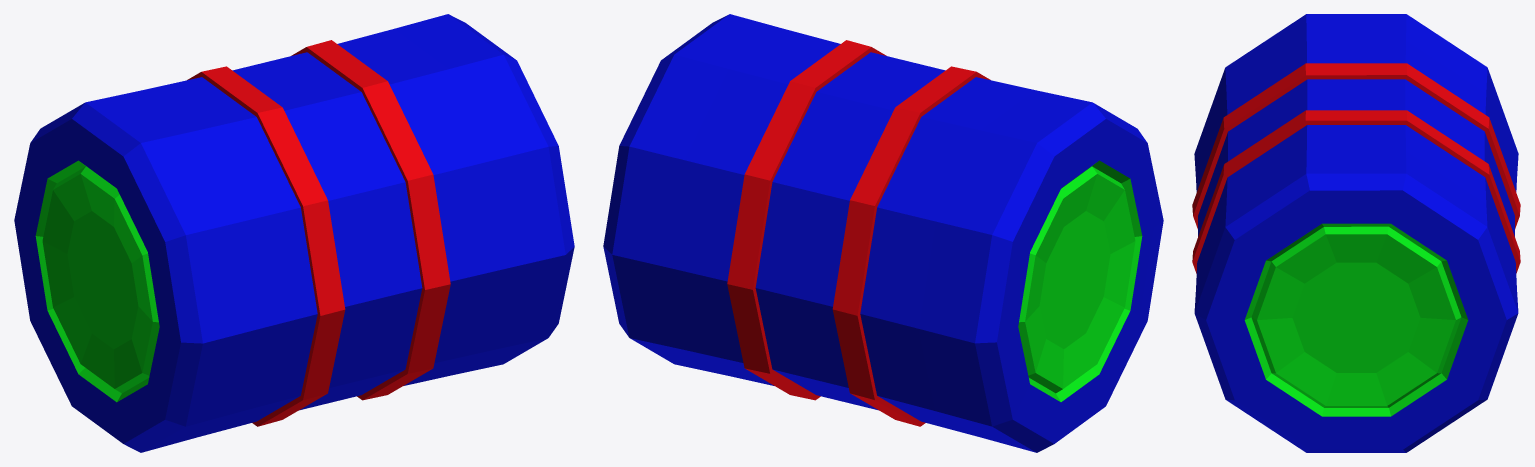
Rendered from SM_Long_HayBale.fbx.
The picture shows the model from 3 angles, left to right: view 1: azimuth 30°, elevation 25°; view 2: azimuth 150°, elevation 25°; view 3: azimuth 270°, elevation 25°; orthographic projection. The views are drawn at different scales.
Parts seen in each view (by area): view 1: SM_Long_HayBale; view 2: SM_Long_HayBale; view 3: SM_Long_HayBale.
Part boxes in pixels (box(x1,y1,x2,y2)): SM_Long_HayBale: box(14, 14, 574, 452); SM_Long_HayBale: box(603, 14, 1163, 452); SM_Long_HayBale: box(1192, 14, 1520, 452).
Size of the model in its own units: 73.18 by 55.78 by 58.64.
